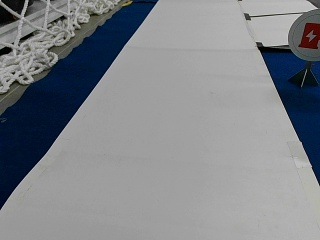battery: (289, 8, 320, 59)
